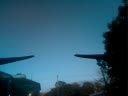window: (2, 2, 127, 95)
